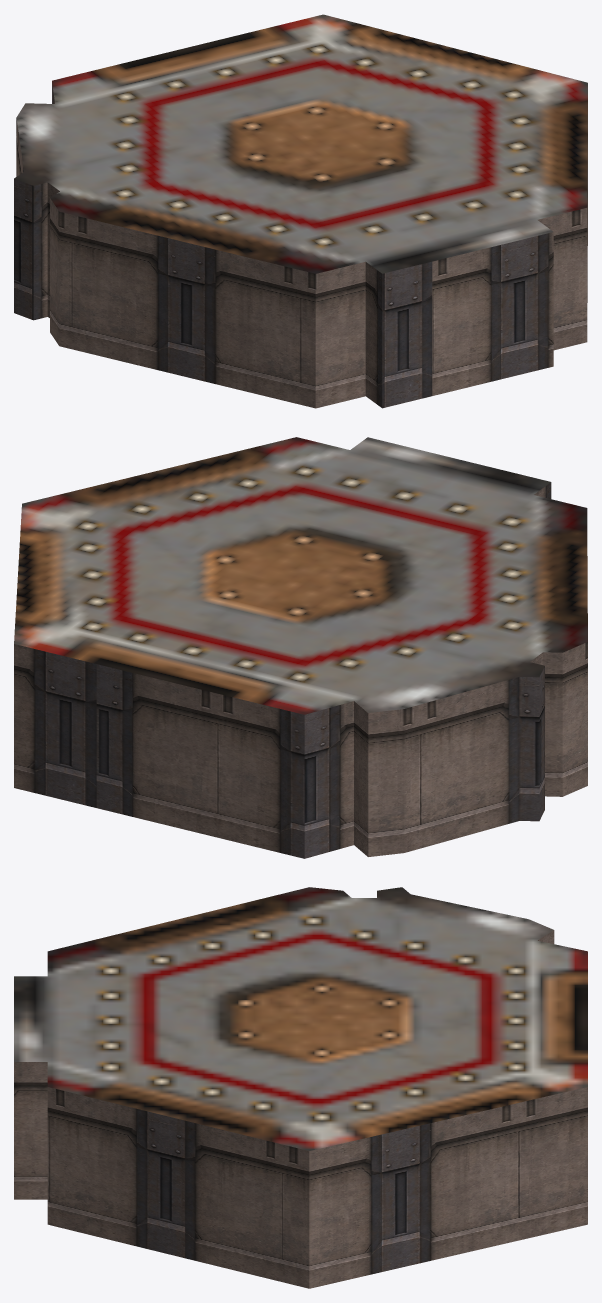
The model's file is bsealed_heavy_a_40.glb.
3 views of the same model, one above another, from view 1: azimuth 30°, elevation 25°; view 2: azimuth 150°, elevation 25°; view 3: azimuth 270°, elevation 25° (orthographic). The views are drawn at different scales.
Visible parts, largest first — view 1: buildings/saxarba/bsealed_heavy/bsealed_heavy_a_40; view 2: buildings/saxarba/bsealed_heavy/bsealed_heavy_a_40; view 3: buildings/saxarba/bsealed_heavy/bsealed_heavy_a_40.
Boxes of the visible parts, bbox=[...] form: buildings/saxarba/bsealed_heavy/bsealed_heavy_a_40: bbox=[14, 14, 587, 408]; buildings/saxarba/bsealed_heavy/bsealed_heavy_a_40: bbox=[14, 437, 587, 858]; buildings/saxarba/bsealed_heavy/bsealed_heavy_a_40: bbox=[14, 887, 587, 1288].
Bounding box in the file's own units: 74 × 18 × 68.
